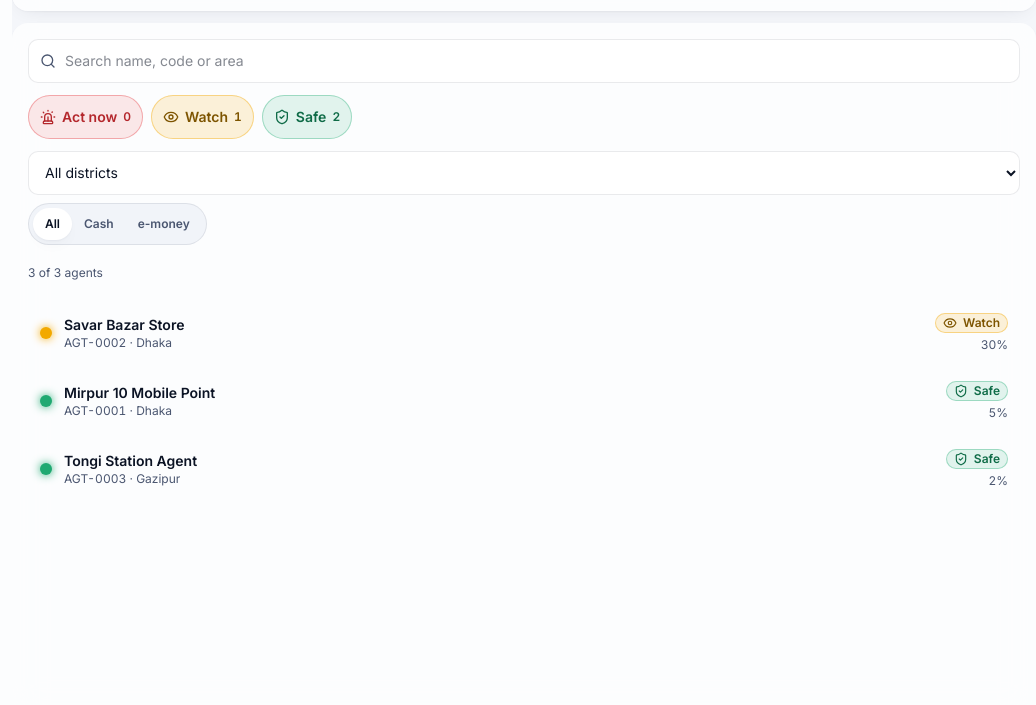
Test: distributor control room › opens the inspector from the list on small screens and goes back
(page scrolled)
Click the option with test id "agent-row" that starts with "Savar Bazar Store".
click(124, 325)  # box [28,301,1020,365]
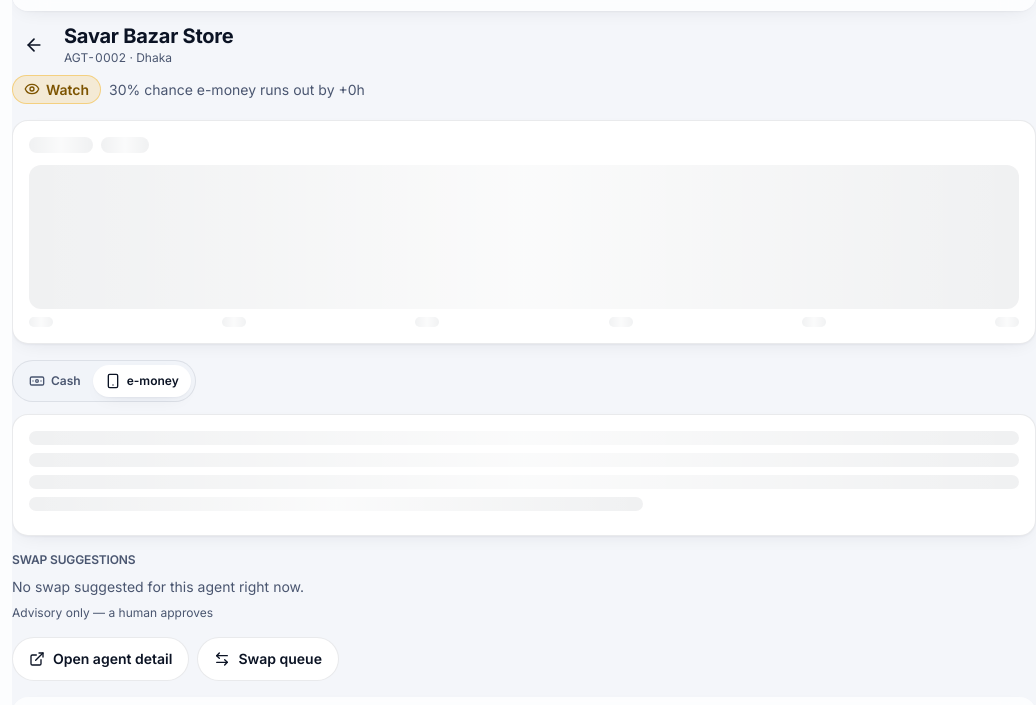
Expected: the heading "Savar Bazar Store" is shown, [64,24,233,48]
Click the button named "Back to the list".
click(34, 45)  # box [12,23,56,67]
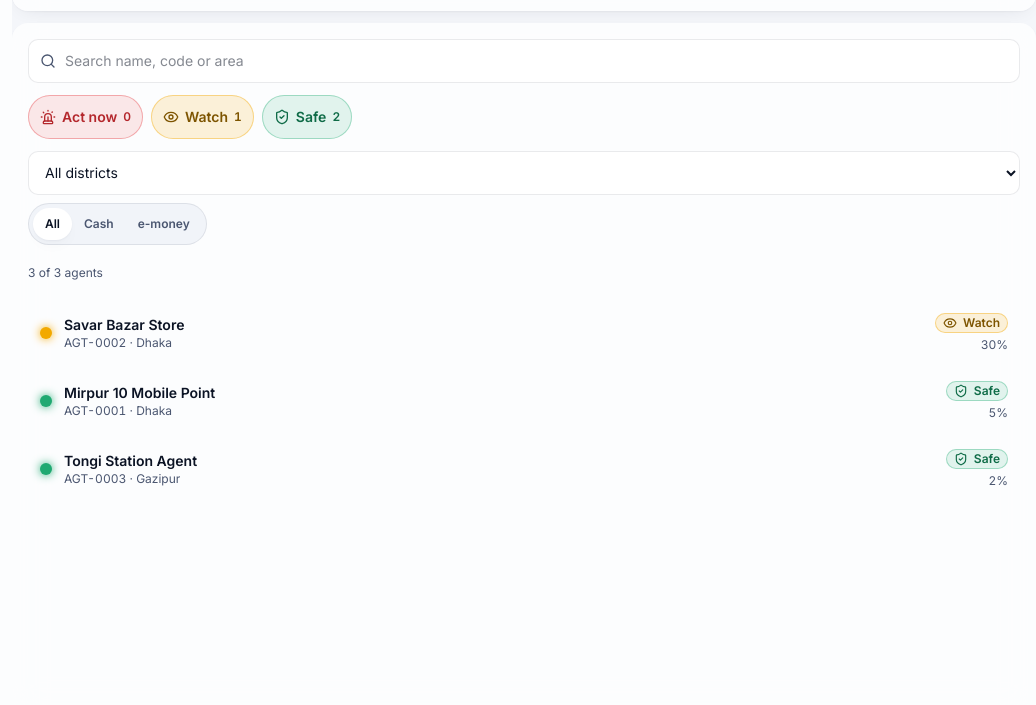
Expected: the element with test id "inspector" is gone
